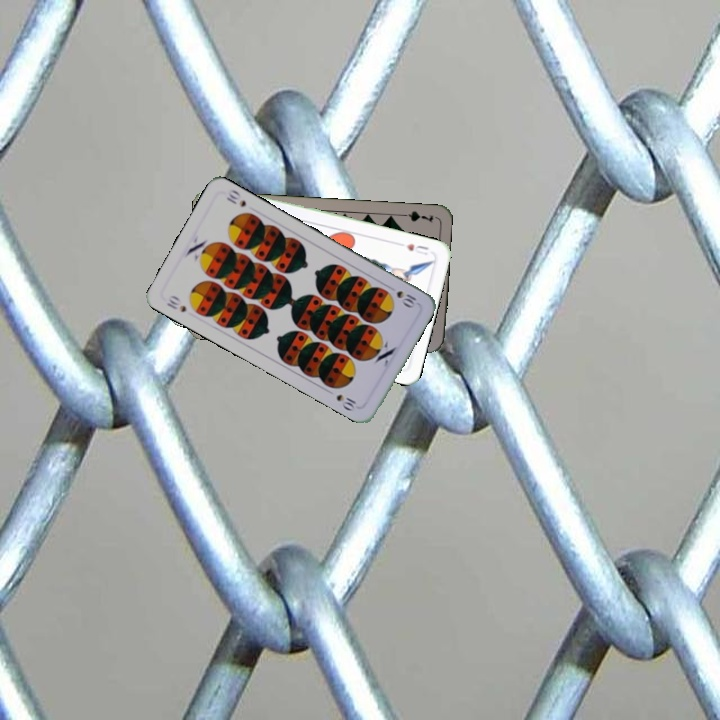G7: (395, 207, 436, 225)
HU: (402, 239, 431, 258)
S10: (392, 286, 419, 310), (162, 291, 189, 315)
